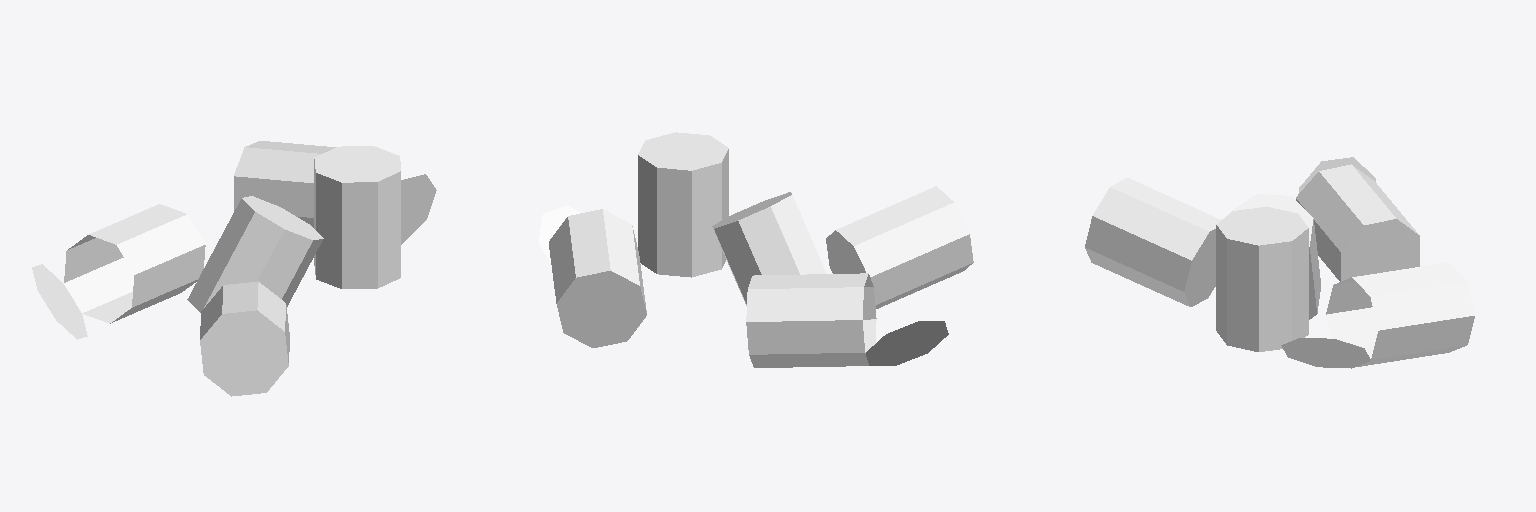
File: metal_cans_debris_5.obj
3 views of the same model, side by side, from view 1: azimuth 30°, elevation 25°; view 2: azimuth 150°, elevation 25°; view 3: azimuth 270°, elevation 25° (orthographic).
Parts seen in each view (by area): view 1: can_2, can_4, can_3, can_1, can_5, can_4_lid, can_5_lid; view 2: can_2, can_4, can_3, can_5, can_1, can_4_lid, can_5_lid; view 3: can_2, can_3, can_5, can_4, can_5_lid, can_1, can_4_lid.
Part boxes in pixels (left/top/right/bottom): can_2: left=314, top=146, right=400, bottom=288; can_4: left=64, top=204, right=205, bottom=323; can_3: left=200, top=281, right=289, bottom=396; can_1: left=187, top=196, right=323, bottom=312; can_5: left=234, top=141, right=335, bottom=227; can_4_lid: left=32, top=264, right=87, bottom=339; can_5_lid: left=401, top=174, right=436, bottom=244; can_2: left=638, top=132, right=728, bottom=277; can_4: left=746, top=273, right=876, bottom=367; can_3: left=826, top=186, right=973, bottom=308; can_5: left=549, top=209, right=646, bottom=347; can_1: left=712, top=192, right=826, bottom=305; can_4_lid: left=866, top=321, right=948, bottom=365; can_5_lid: left=538, top=205, right=580, bottom=262; can_2: left=1216, top=207, right=1308, bottom=351; can_3: left=1085, top=178, right=1220, bottom=306; can_5: left=1326, top=262, right=1474, bottom=366; can_4: left=1296, top=164, right=1419, bottom=281; can_5_lid: left=1281, top=338, right=1370, bottom=368; can_1: left=1229, top=194, right=1320, bottom=319; can_4_lid: left=1299, top=157, right=1375, bottom=192.
Bounding box in the file's own units: 1.33 × 0.4852 × 1.14.